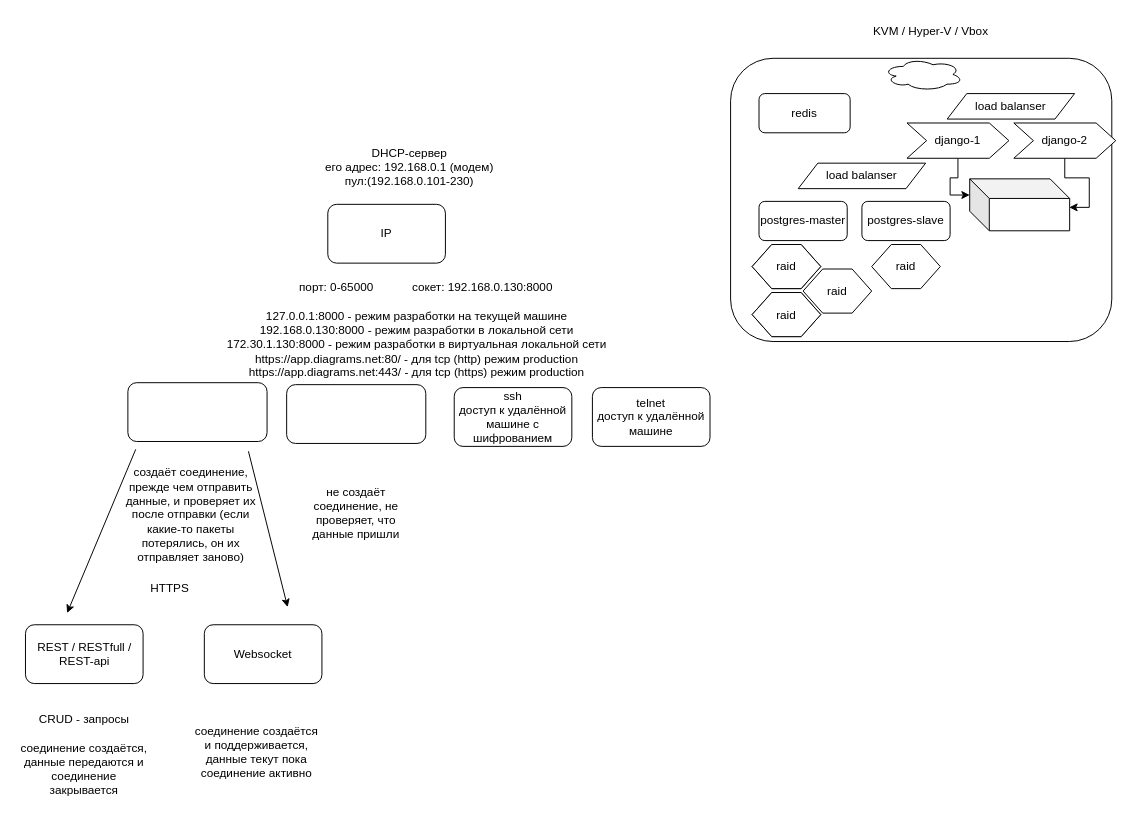
This 1133x824 diagram has some shape labels left out. The box of each missing label's shape, as (x1, y1, x2, y2) in pixels:
cdn: (882, 57, 963, 91)
static: (969, 178, 1070, 231)
TCP протокол транспортного уровня: (127, 382, 267, 441)
UDP протокол транспортного уровня: (286, 384, 426, 443)
